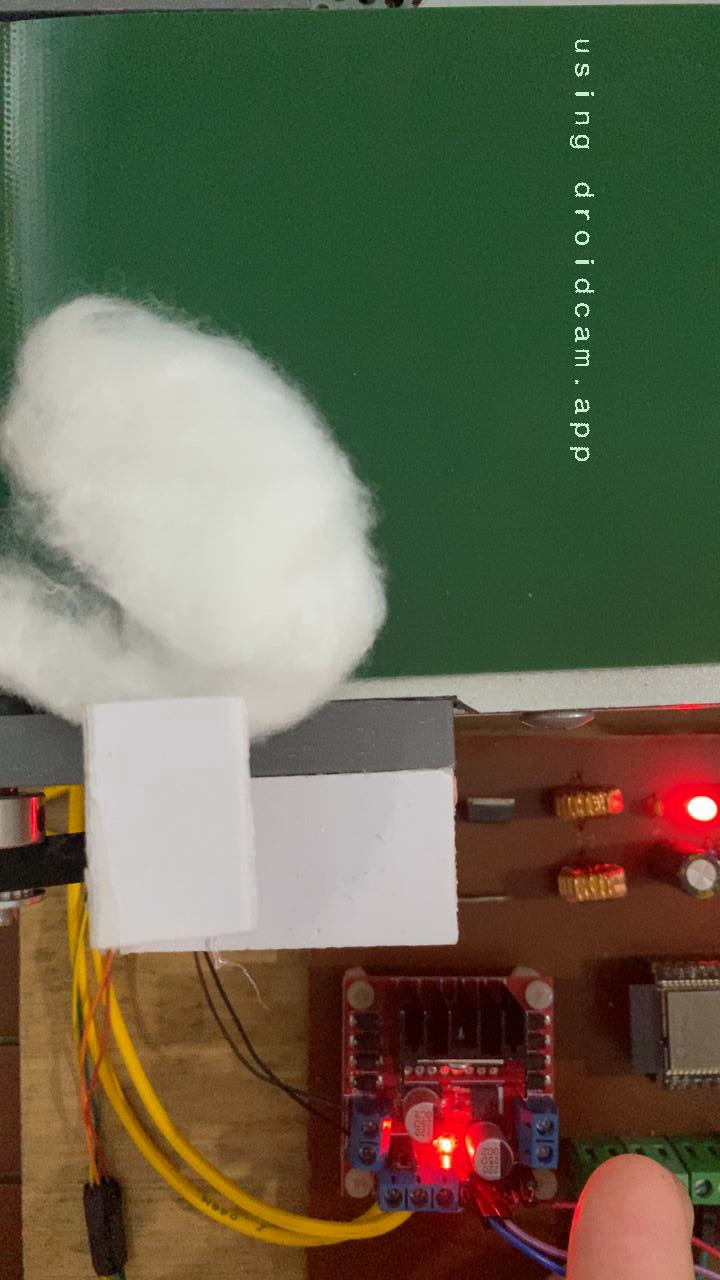cotton: (0, 287, 395, 664)
